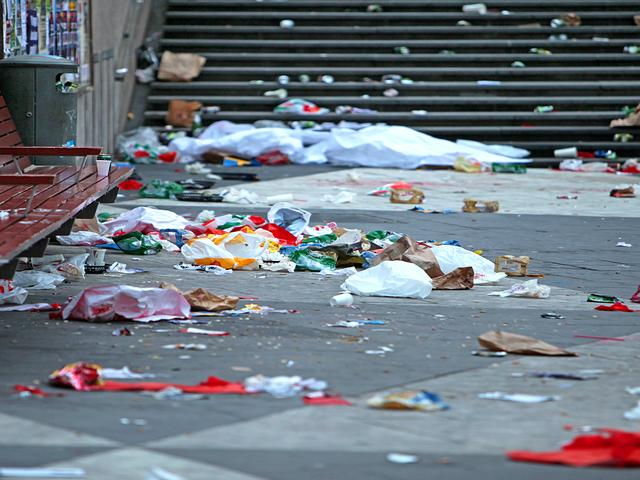garbage: (114, 209, 330, 260)
